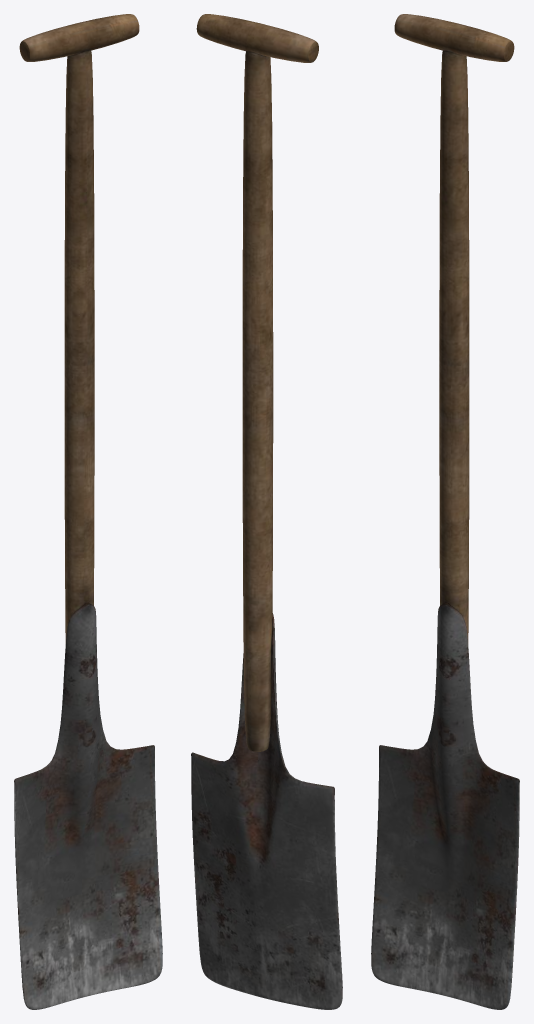
The picture shows the model from 3 angles, left to right: view 1: azimuth 30°, elevation 25°; view 2: azimuth 150°, elevation 25°; view 3: azimuth 330°, elevation 25°; orthographic projection. The views are drawn at different scales.
Parts seen in each view (by area): view 1: rusted_spade_01; view 2: rusted_spade_01; view 3: rusted_spade_01.
Boxes of the visible parts, x1,y1,x2,y2 form: rusted_spade_01: (14, 14, 162, 1009); rusted_spade_01: (191, 14, 342, 1009); rusted_spade_01: (371, 14, 519, 1009).
Size of the model in its own units: 0.1681 by 1.1 by 0.0456.
1 material, 1 textured.
